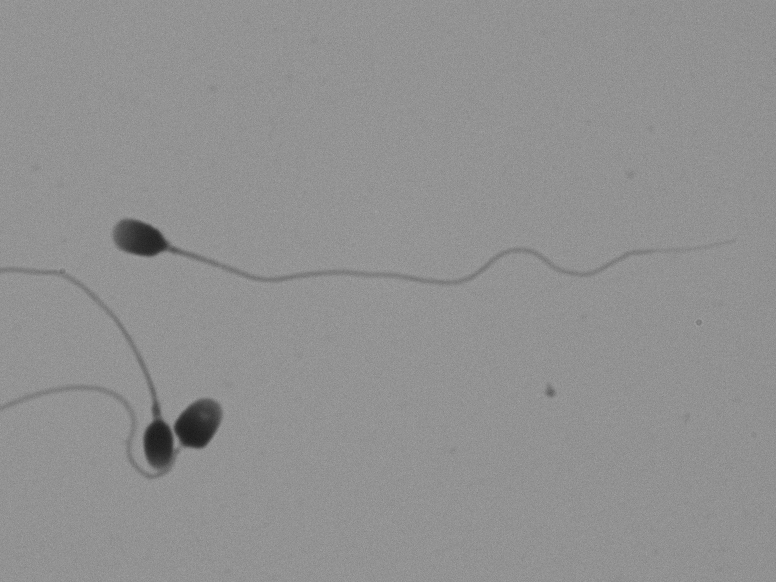Abnormal: (171, 339, 240, 462)
Normal: (96, 142, 748, 301), (61, 316, 173, 495)
